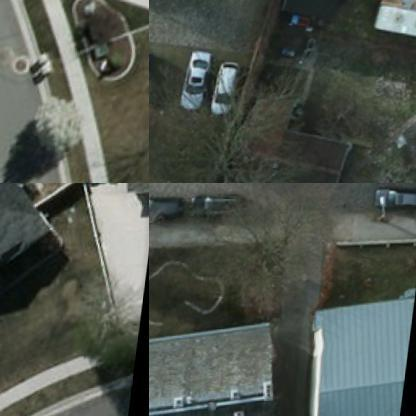car: (188, 191, 249, 224), (182, 51, 216, 110), (212, 62, 242, 117), (370, 187, 415, 222), (149, 52, 159, 106)
